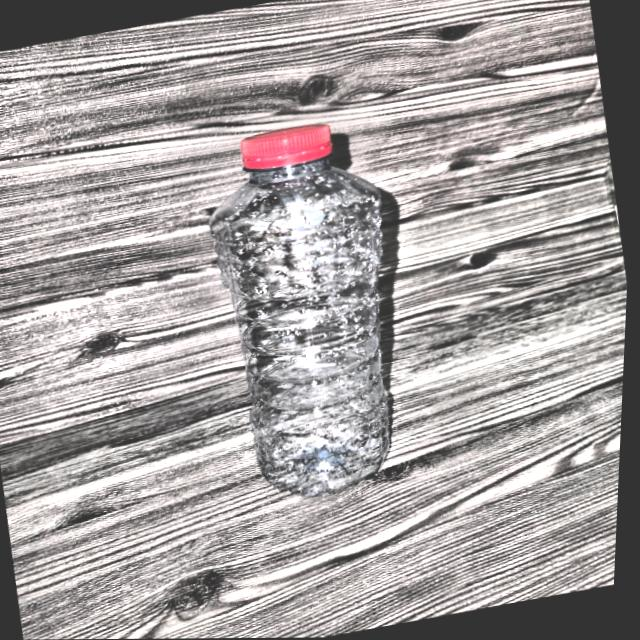Bottles: (164, 103, 470, 522)
